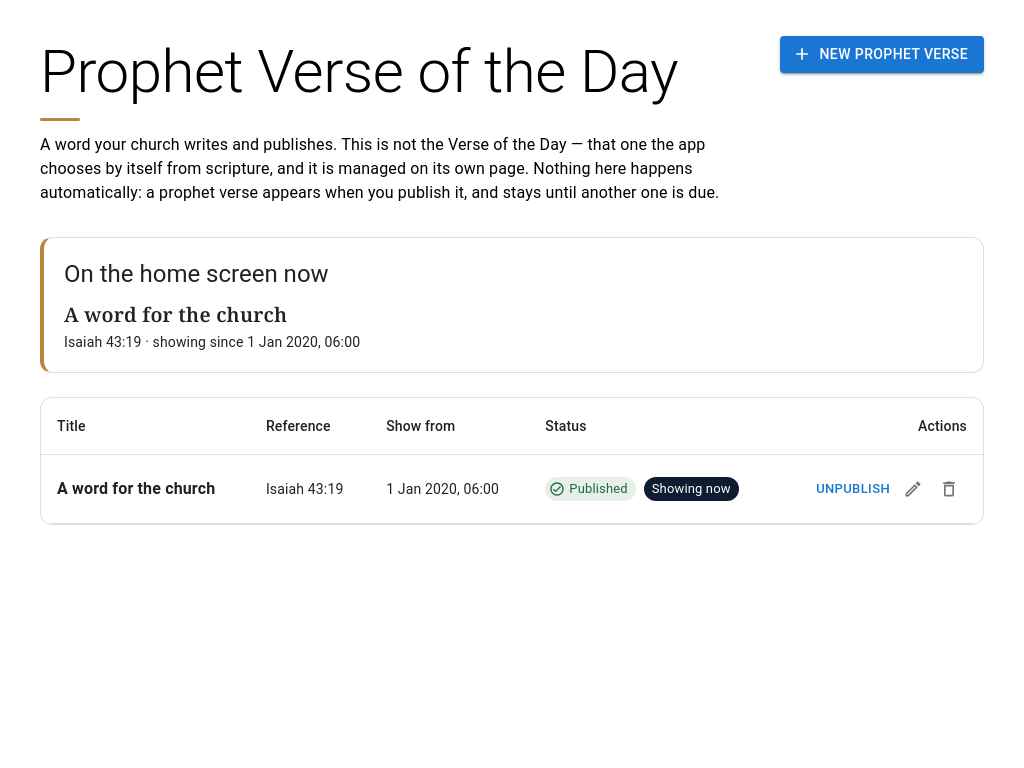
Test: publishing › says so when the change could not be made
The width and height of the screenshot is (1024, 768).
What coordinates should you click on to do the following:
click the button with test id "prophet-verse-toggle-p1"
I would click on:
 (853, 489)
Its box is [811,474,895,504].
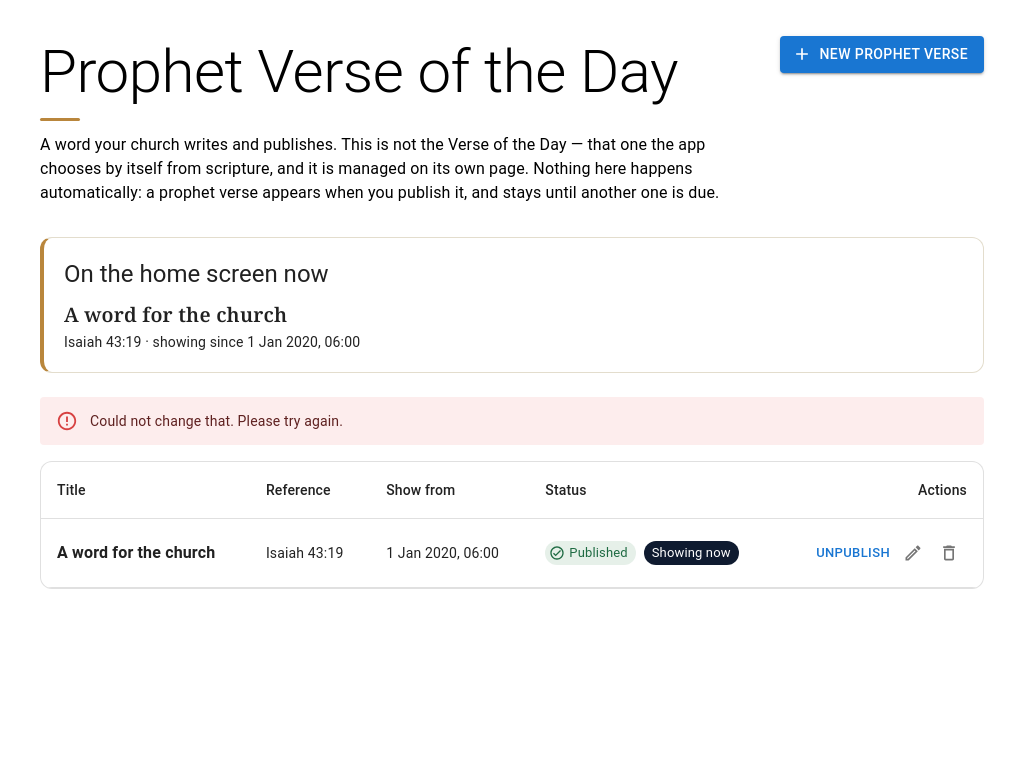
Result: the message "Could not change that. Please try again." is shown at [40,397,984,445]
